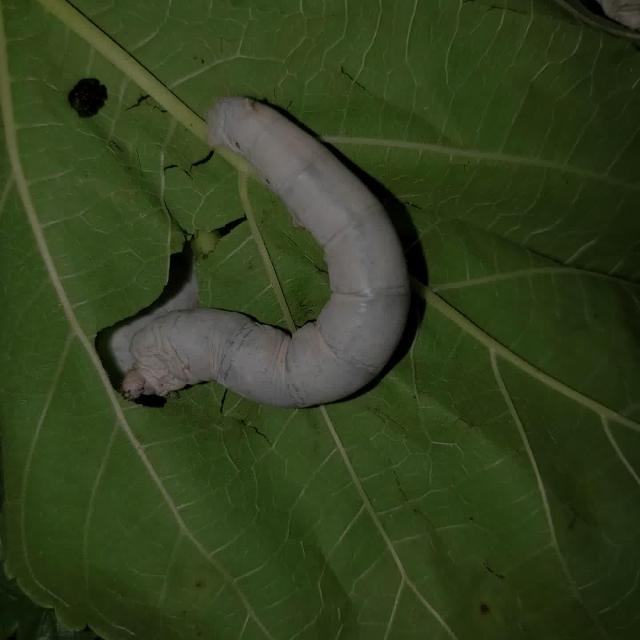Healthy: (88, 43, 440, 444)
